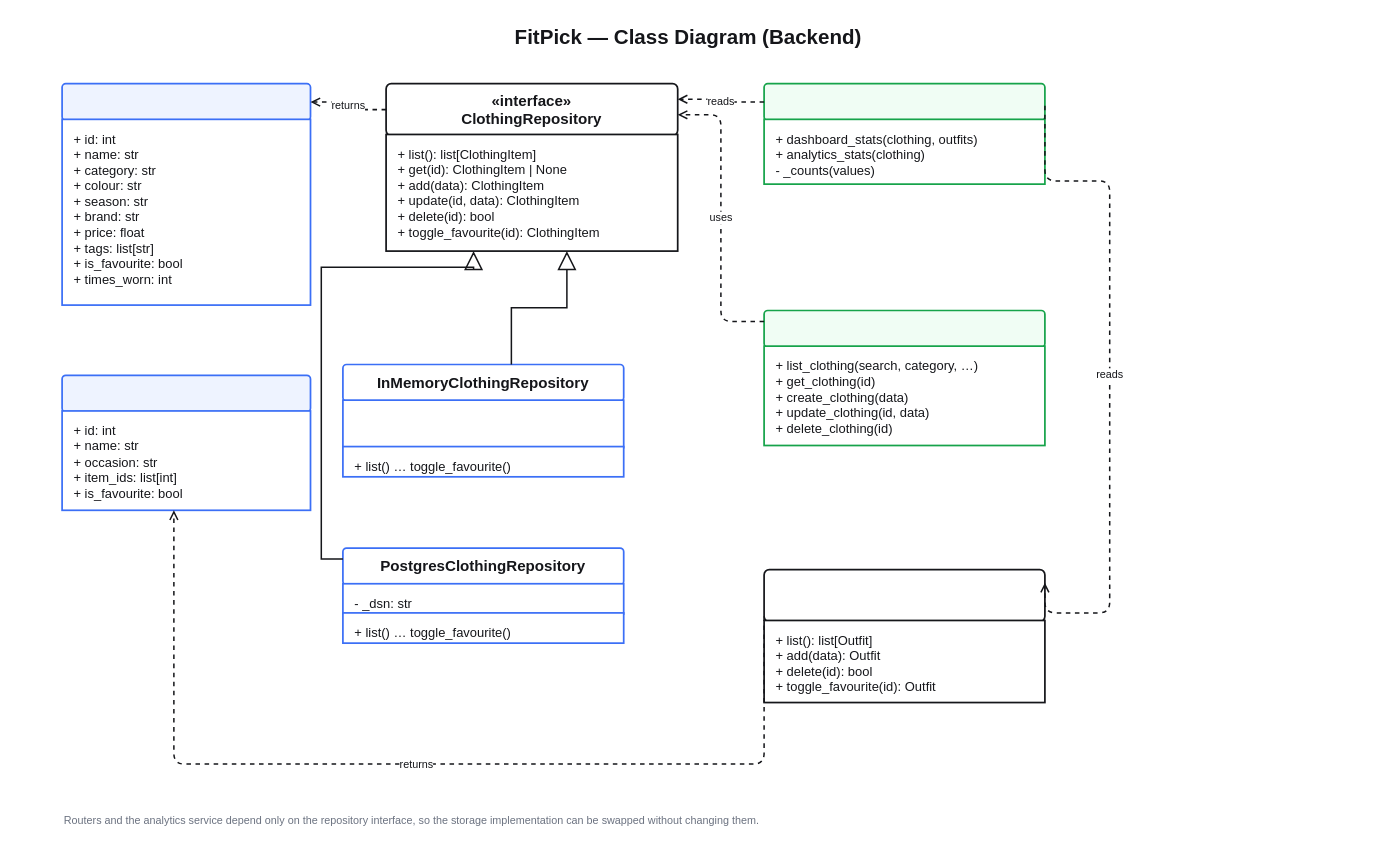
Some shapes in this 1376 by 862 pixel diagram are drawn without their labels. Each missing label, with the box of its shape:
- _items: dict[int, ClothingItem] - _next_id: int: (341, 399, 624, 448)
AnalyticsService: (763, 82, 1045, 121)
ClothingItem: (61, 82, 311, 121)
ClothingRouter: (763, 309, 1045, 348)
Outfit: (61, 374, 311, 412)
«interface» OutfitRepository: (763, 568, 1045, 622)
